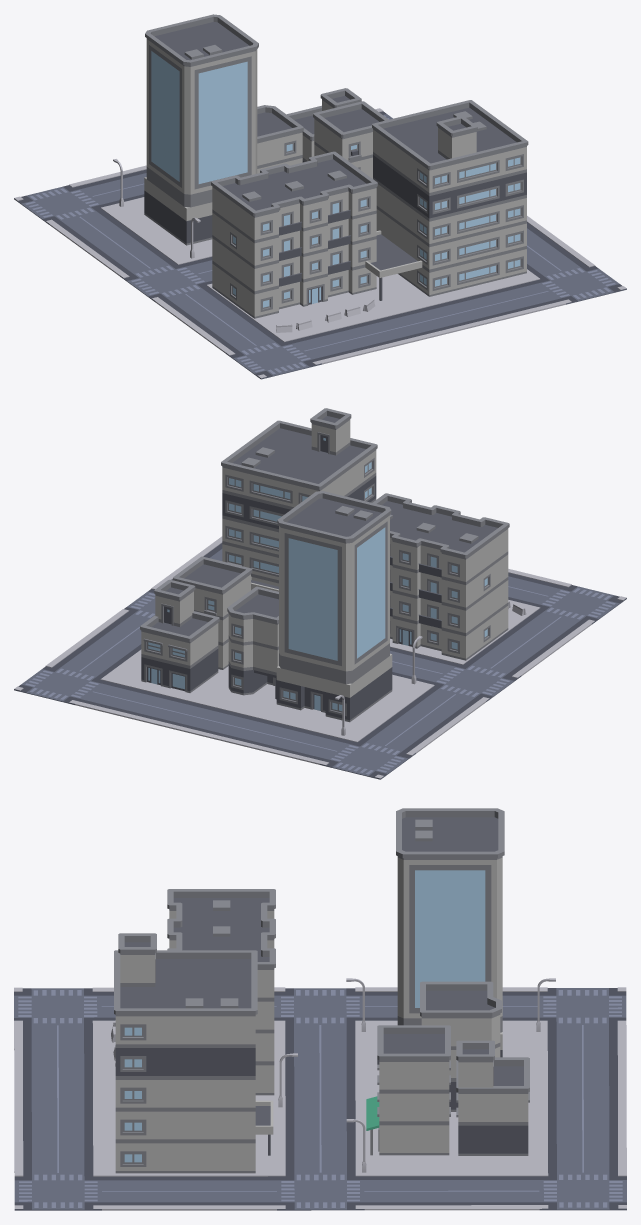
File: city_block8.fbx
3 renders of one model, top to bottom at view 1: azimuth 30°, elevation 25°; view 2: azimuth 150°, elevation 25°; view 3: azimuth 270°, elevation 25°, orthographic. The views are drawn at different scales.
Visible parts, largest first — view 1: large_buildingG, large_buildingA, skyscraperA, small_buildingD, small_buildingC, road_straight__16_, road_straight__19_, road_straight__17_, road_straight__18_, road_crossroadPath__5_, road_straight__7_, road_crossroadPath__4_ (+14 smaller); view 2: skyscraperA, large_buildingA, large_buildingG, small_buildingF, small_buildingC, small_buildingD, road_straight__10_, road_straight__8_, road_straight__9_, road_straight__11_, road_crossroadPath__2_, road_crossroadPath__3_ (+16 smaller); view 3: large_buildingG, skyscraperA, small_buildingD, large_buildingA, small_buildingF, small_buildingC, road_straight__13_, road_crossroadPath__1_, road_crossroadPath__3_, road_straight__12_, road_straight__14_, road_crossroadPath__4_ (+25 smaller).
Part boxes in pixels (<box>): large_buildingG: <box>365,100,528,300</box>; large_buildingA: <box>211,151,377,318</box>; skyscraperA: <box>144,14,258,245</box>; small_buildingD: <box>313,101,388,178</box>; small_buildingC: <box>257,105,303,173</box>; road_straight__16_: <box>470,277,565,319</box>; road_straight__19_: <box>409,292,504,334</box>; road_straight__17_: <box>287,322,382,364</box>; road_straight__18_: <box>348,307,443,349</box>; road_crossroadPath__5_: <box>225,337,321,379</box>; road_straight__7_: <box>49,209,145,250</box>; road_crossroadPath__4_: <box>531,263,626,304</box>; skyscraperA: <box>276,491,392,722</box>; large_buildingA: <box>372,493,509,660</box>; large_buildingG: <box>221,408,377,591</box>; small_buildingF: <box>140,579,219,692</box>; small_buildingC: <box>227,586,278,699</box>; small_buildingD: <box>173,556,252,669</box>; road_straight__10_: <box>136,693,231,734</box>; road_straight__8_: <box>258,723,354,764</box>; road_straight__9_: <box>197,708,292,749</box>; road_straight__11_: <box>75,678,170,719</box>; road_crossroadPath__2_: <box>319,738,415,779</box>; road_crossroadPath__3_: <box>14,663,109,704</box>; large_buildingG: <box>114,933,273,1173</box>; skyscraperA: <box>396,808,504,1057</box>; small_buildingD: <box>366,1025,450,1155</box>; large_buildingA: <box>167,889,275,1095</box>; small_buildingF: <box>456,1040,529,1155</box>; small_buildingC: <box>420,981,501,1111</box>; road_straight__13_: <box>452,1172,539,1210</box>; road_crossroadPath__1_: <box>277,1172,364,1210</box>; road_crossroadPath__3_: <box>539,1172,626,1210</box>; road_straight__12_: <box>364,1172,451,1210</box>; road_straight__14_: <box>189,1172,276,1210</box>; road_crossroadPath__4_: <box>14,1172,101,1210</box>.
Size of the model in its own units: 601 by 288 by 701.
